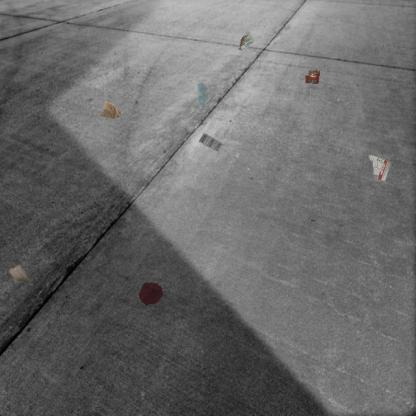dirty: (367, 154, 392, 182), (198, 132, 224, 154), (7, 263, 33, 284), (98, 100, 124, 121), (236, 29, 257, 52), (304, 68, 322, 86)
liquid: (138, 281, 165, 307), (196, 81, 210, 107)
